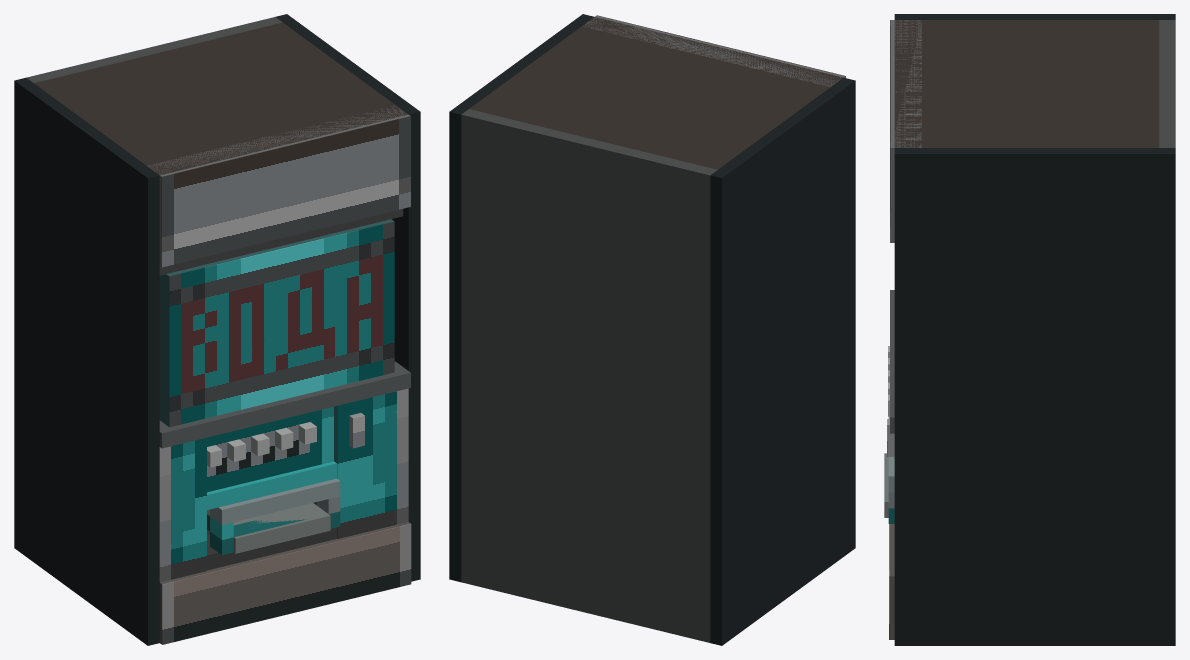
The model's file is CMU3DVendorSovietCloud.glb.
The picture shows the model from 3 angles, left to right: view 1: azimuth 30°, elevation 25°; view 2: azimuth 150°, elevation 25°; view 3: azimuth 270°, elevation 25°; orthographic projection. The views are drawn at different scales.
Visible parts, largest first — view 1: left full-depth cabinet wall, turquoise sign panel with original Cyrillic original face, roof, plain silver header original face, lower solid plinth original face, right full-depth cabinet wall, right turquoise control panel original face, left turquoise control panel original face, selector bank background original face, silver sign bottom rail, plain silver header, pickup aperture floor (+8 smaller); view 2: solid rear wall, left full-depth cabinet wall, roof, right full-depth cabinet wall, plain silver header; view 3: right full-depth cabinet wall, roof, plain silver header, solid rear wall, left full-depth cabinet wall, silver sign bottom rail, lower solid plinth.
Boxes of the visible parts, x1,y1,x2,y2 form: left full-depth cabinet wall: [14, 77, 159, 645]; turquoise sign panel with original Cyrillic original face: [169, 221, 394, 427]; roof: [34, 22, 408, 175]; plain silver header original face: [161, 116, 410, 267]; lower solid plinth original face: [162, 523, 411, 644]; right full-depth cabinet wall: [275, 14, 420, 581]; right turquoise control panel original face: [337, 388, 408, 538]; left turquoise control panel original face: [159, 437, 206, 582]; selector bank background original face: [207, 406, 333, 492]; silver sign bottom rail: [159, 361, 410, 448]; plain silver header: [148, 106, 409, 266]; pickup aperture floor: [207, 503, 330, 553]; solid rear wall: [461, 109, 717, 642]; left full-depth cabinet wall: [710, 77, 855, 645]; roof: [469, 17, 843, 169]; right full-depth cabinet wall: [449, 14, 594, 582]; plain silver header: [582, 15, 845, 86]; right full-depth cabinet wall: [894, 148, 1175, 645]; roof: [894, 20, 1159, 147]; plain silver header: [890, 20, 921, 242]; solid rear wall: [1159, 20, 1175, 147]; left full-depth cabinet wall: [894, 14, 1175, 19]; silver sign bottom rail: [890, 290, 894, 433]; lower solid plinth: [890, 524, 894, 639].
Size of the model in its own units: 0.7188 by 1.18 by 0.632.
Materials: 29 (7 with a texture image).
